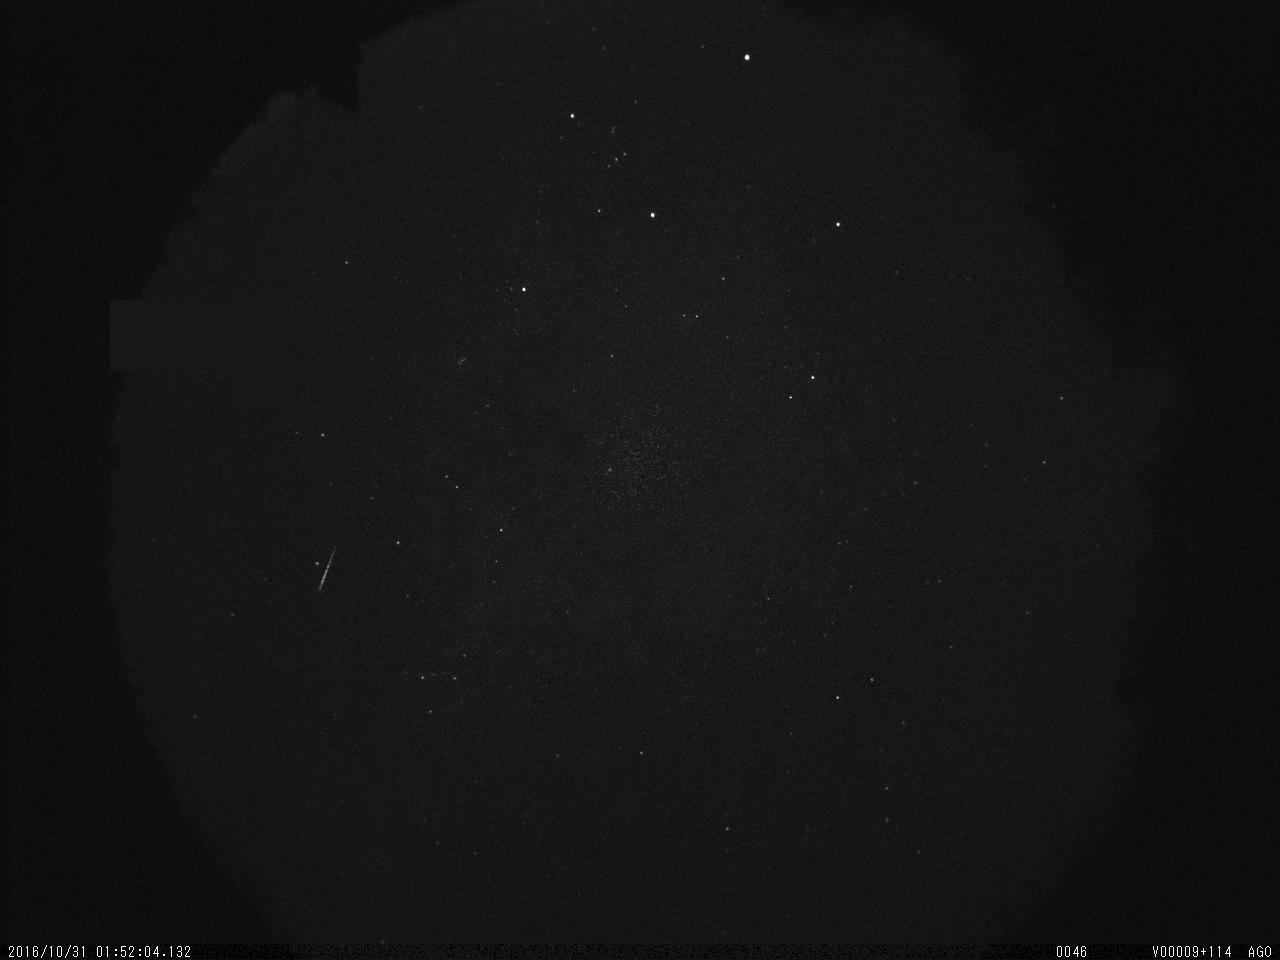meteor: (303, 539, 361, 604)
